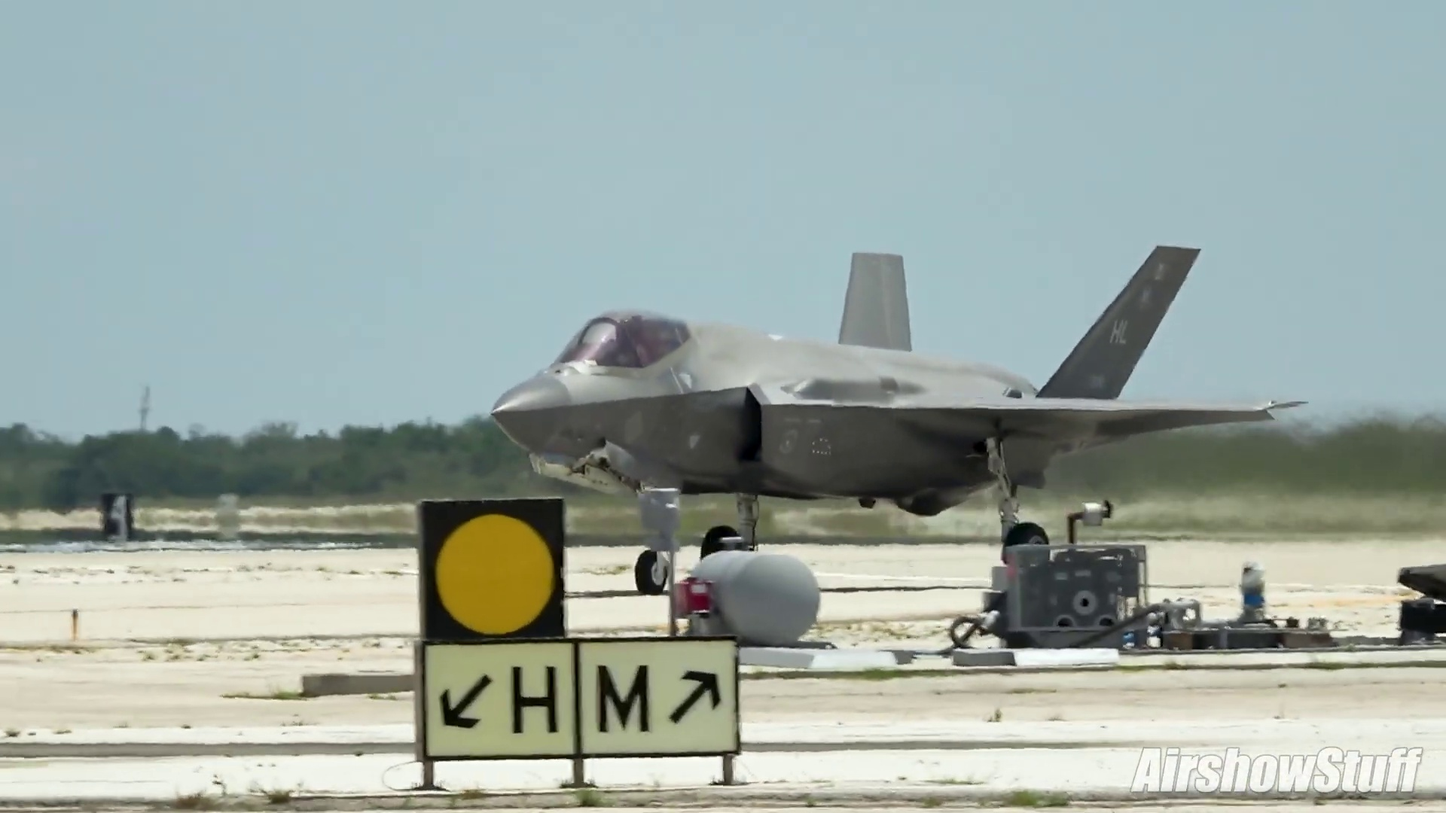F35: (491, 241, 1316, 597)
